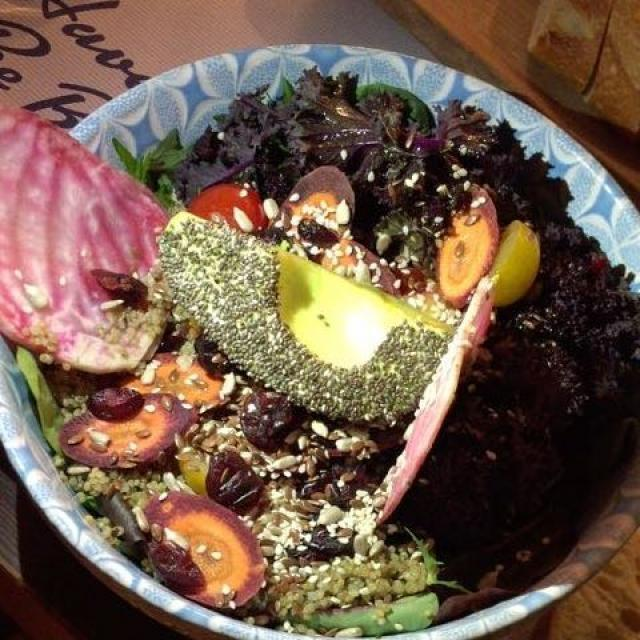avocado: (162, 205, 453, 451)
beetroot: (0, 91, 184, 384)
carrot: (69, 170, 509, 600)
salad: (29, 86, 611, 624)
seeds: (118, 194, 454, 568)
